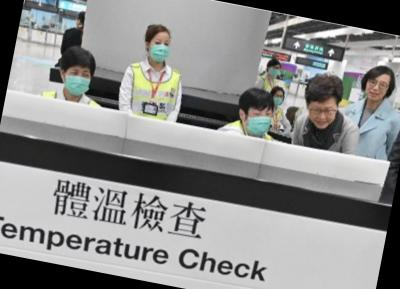with_mask: (61, 65, 94, 98), (245, 103, 276, 138), (147, 36, 172, 63), (268, 63, 282, 78), (272, 92, 286, 107)
without_mask: (307, 101, 340, 132), (364, 75, 393, 102)
